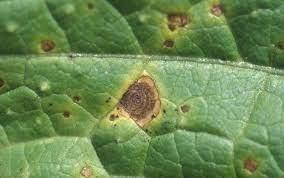Bok-Choy-Diseased: (4, 0, 284, 178)
